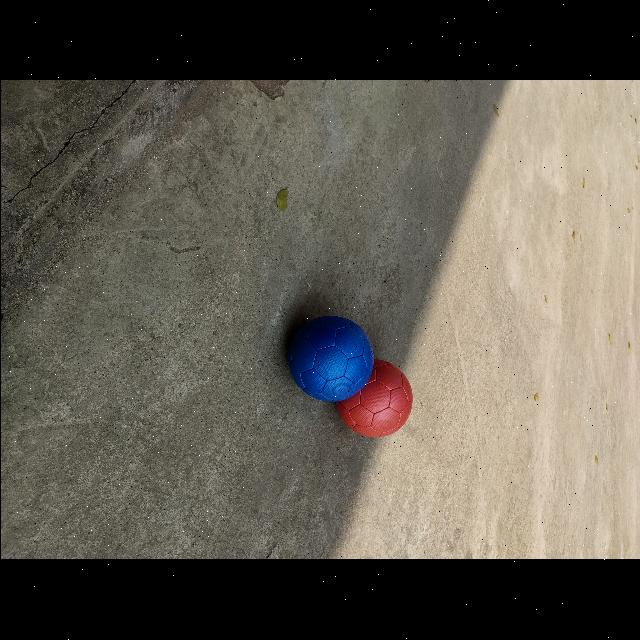B: (287, 316, 373, 402)
R: (335, 361, 411, 438)
